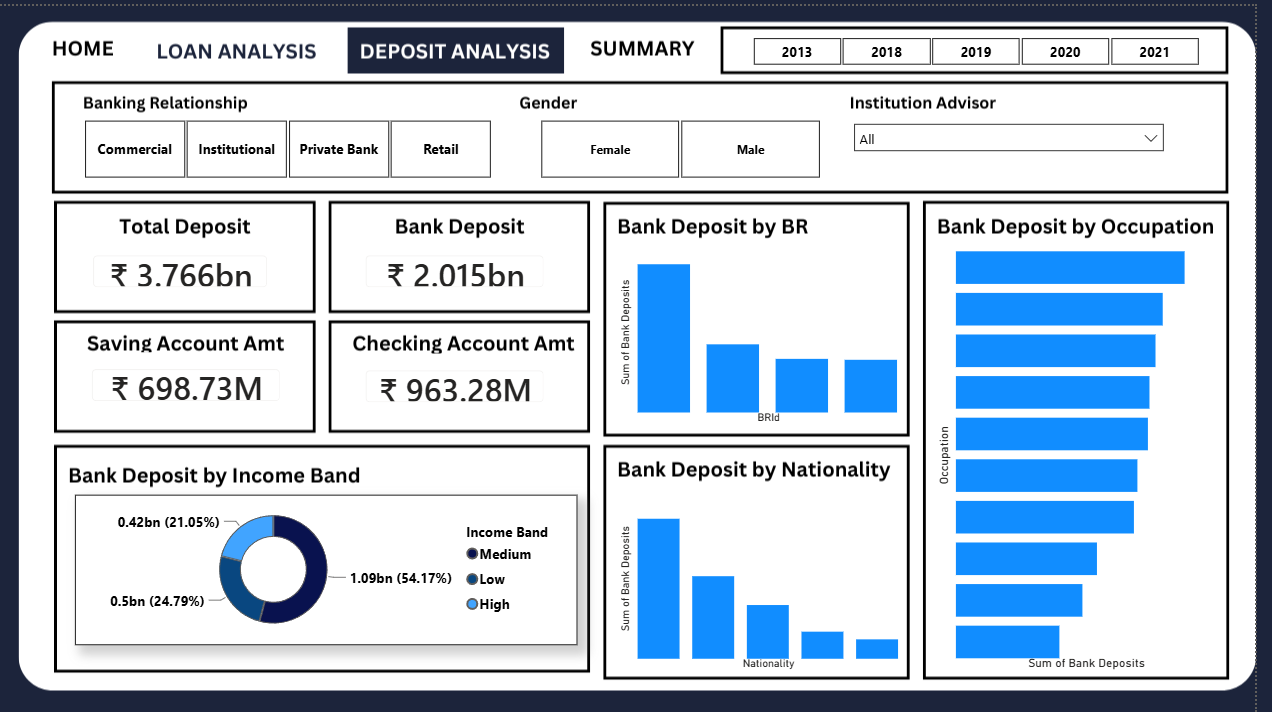

This screenshot's page, from the dashboard's own definition file:
{"tool":"powerbi","page":{"name":"Deposit Analysis","canvas":[1280,720],"ordinal":2},"visuals":[{"type":"slicer","fields":{"Values":["banking_case customer.Year of Joining"]},"box":[752.5,25,495,37.5],"z":0},{"type":"actionButton","box":[62.5,25,100,40],"z":1000},{"type":"actionButton","box":[162.5,18.8,212.5,50],"z":2000},{"type":"actionButton","box":[602.5,23.8,132.5,40],"z":3000},{"type":"cardVisual","fields":{"Data":["Sum(banking_case customer.Bank Deposits)"]},"box":[373.8,232.5,212.5,66.2],"z":4000},{"type":"cardVisual","fields":{"Data":["banking_case customer.Total Deposit"]},"box":[101.2,232.5,208.8,66.2],"z":5000},{"type":"cardVisual","fields":{"Data":["Sum(banking_case customer.Saving Accounts)"]},"box":[100,346.2,222.5,66.2],"z":6000},{"type":"cardVisual","fields":{"Data":["Sum(banking_case customer.Checking Accounts)"]},"box":[373.8,347.5,212.5,66.2],"z":7000},{"type":"donutChart","fields":{"Category":["banking_case customer.Income Band"],"Y":["Sum(banking_case customer.Bank Deposits)"]},"box":[100,488.8,502.5,150],"z":8000},{"type":"columnChart","fields":{"Category":["banking_case customer.BRId"],"Y":["Sum(banking_case customer.Bank Deposits)"]},"box":[640,232.5,290,190],"z":9000},{"type":"columnChart","fields":{"Category":["banking_case customer.Nationality"],"Y":["Sum(banking_case customer.Bank Deposits)"]},"box":[640,478.8,290,190],"z":10000},{"type":"barChart","fields":{"Category":["banking_case customer.Occupation"],"Y":["Sum(banking_case customer.Bank Deposits)"]},"box":[957.5,232.5,290,436.2],"z":11000},{"type":"slicer","fields":{"Values":["banking_case customer.BRId"]},"box":[83.8,107.5,456.2,71.2],"z":12000},{"type":"slicer","fields":{"Values":["banking_case customer.GenderId"]},"box":[540,107.5,328.8,71.2],"z":13000},{"type":"slicer","fields":{"Values":["banking_case customer.IAId"]},"box":[868.8,107.5,330,60],"z":14000}]}

Visuals, with their boxes in screenshot pixels (x1, y1, x2, y2), scaled from the page's 1280x720 canvas onto the 1272x712 screenshot:
slicer - banking_case customer.Year of Joining: pyautogui.locateOnScreen(748, 25, 1240, 62)
actionButton: pyautogui.locateOnScreen(62, 25, 161, 64)
actionButton: pyautogui.locateOnScreen(161, 19, 373, 68)
actionButton: pyautogui.locateOnScreen(599, 24, 730, 63)
cardVisual - Sum(banking_case customer.Bank Deposits): pyautogui.locateOnScreen(371, 230, 583, 295)
cardVisual - banking_case customer.Total Deposit: pyautogui.locateOnScreen(101, 230, 308, 295)
cardVisual - Sum(banking_case customer.Saving Accounts): pyautogui.locateOnScreen(99, 342, 320, 408)
cardVisual - Sum(banking_case customer.Checking Accounts): pyautogui.locateOnScreen(371, 344, 583, 409)
donutChart - banking_case customer.Income Band x Sum(banking_case customer.Bank Deposits): pyautogui.locateOnScreen(99, 483, 599, 632)
columnChart - banking_case customer.BRId x Sum(banking_case customer.Bank Deposits): pyautogui.locateOnScreen(636, 230, 924, 418)
columnChart - banking_case customer.Nationality x Sum(banking_case customer.Bank Deposits): pyautogui.locateOnScreen(636, 473, 924, 661)
barChart - banking_case customer.Occupation x Sum(banking_case customer.Bank Deposits): pyautogui.locateOnScreen(952, 230, 1240, 661)
slicer - banking_case customer.BRId: pyautogui.locateOnScreen(83, 106, 537, 177)
slicer - banking_case customer.GenderId: pyautogui.locateOnScreen(537, 106, 863, 177)
slicer - banking_case customer.IAId: pyautogui.locateOnScreen(863, 106, 1191, 166)
